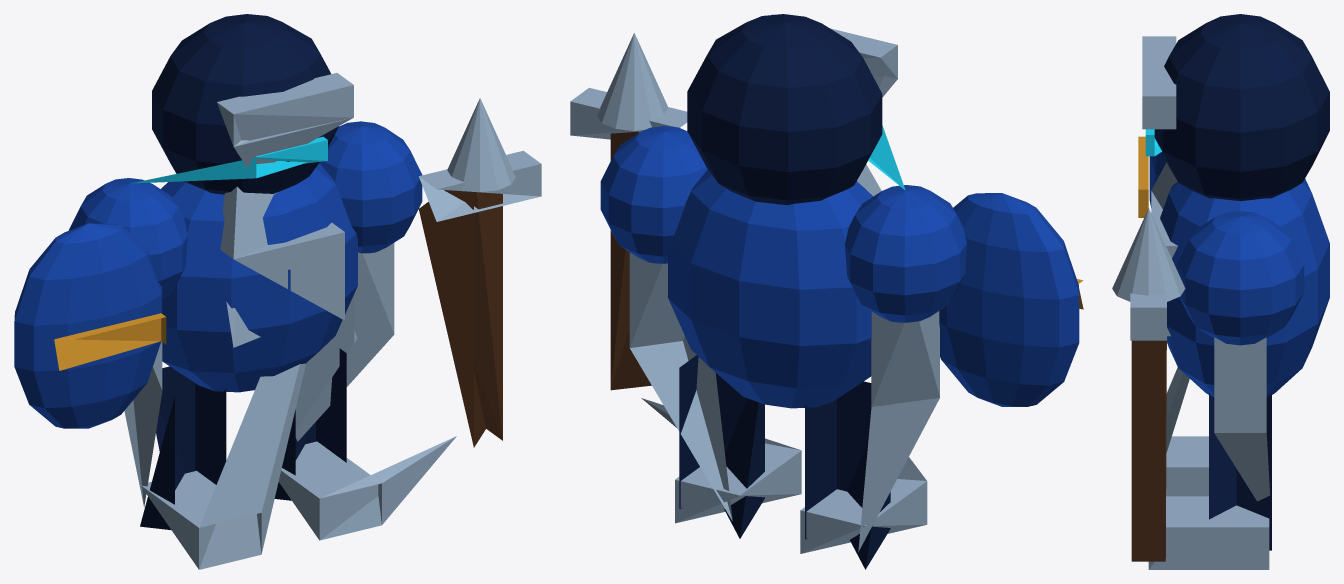
File: Minion_Guerrero.obj
3 renders of one model, left to right at view 1: azimuth 30°, elevation 25°; view 2: azimuth 150°, elevation 25°; view 3: azimuth 270°, elevation 25°, orthographic. The views are drawn at different scales.
Visible parts, largest first — view 1: Minion_Guerrero; view 2: Minion_Guerrero; view 3: Minion_Guerrero.
Boxes of the visible parts, left/top/right/bottom form: Minion_Guerrero: left=14, top=14, right=541, bottom=569; Minion_Guerrero: left=570, top=14, right=1083, bottom=569; Minion_Guerrero: left=1112, top=14, right=1329, bottom=569.
Bounding box in the file's own units: 2.24 × 2.11 × 0.8312.
